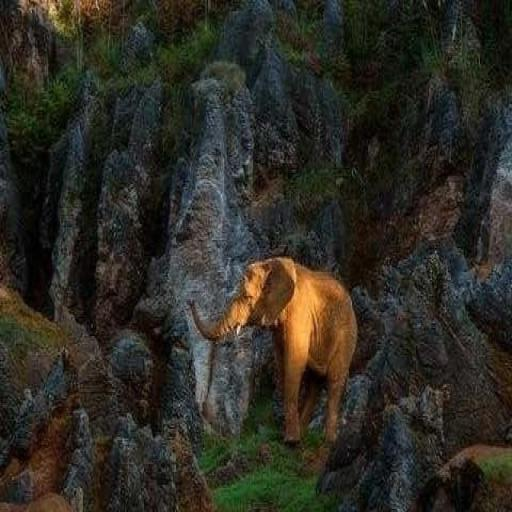Elephant: (186, 254, 358, 450)
